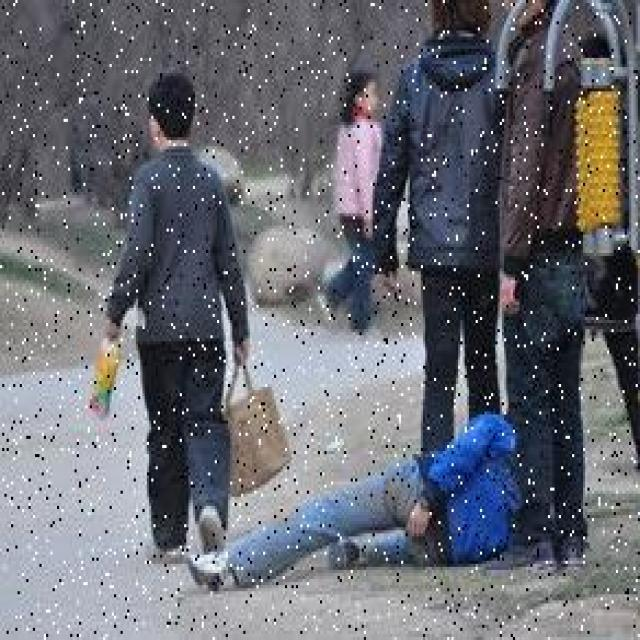fall: (184, 406, 526, 594)
